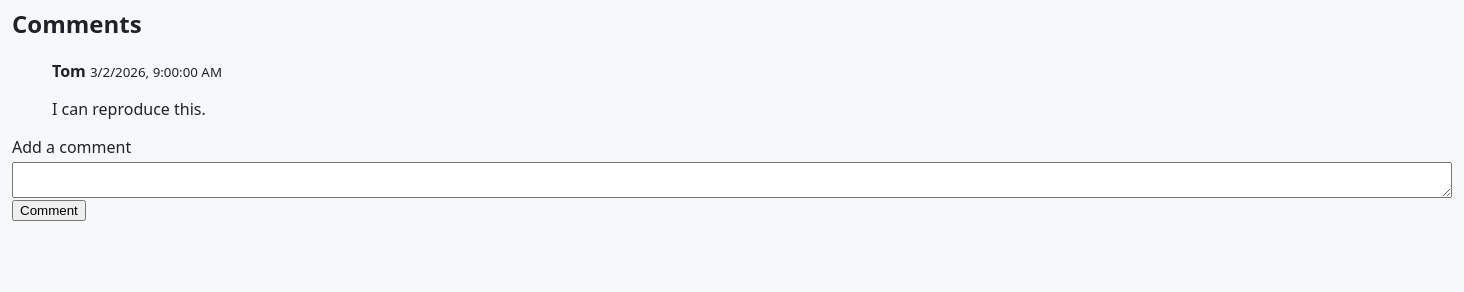
Scenario: CommentsSection › removes the pending comment and restores the text when posting fails
Later steps or results of the test are not shown.
Type "This will fail" into the text box labelled "Add a comment" at (732,180), box 12,162 -> 1452,198
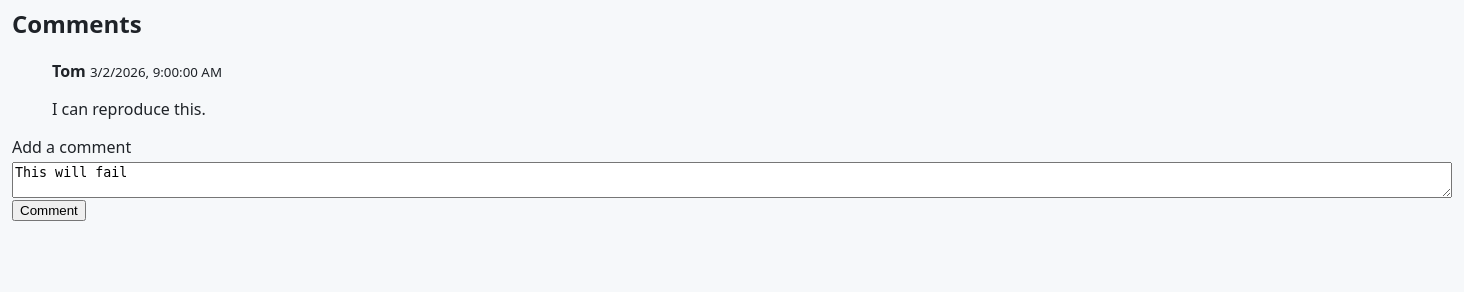
Click the button "Comment" at (49,210), box 12,200 -> 86,221
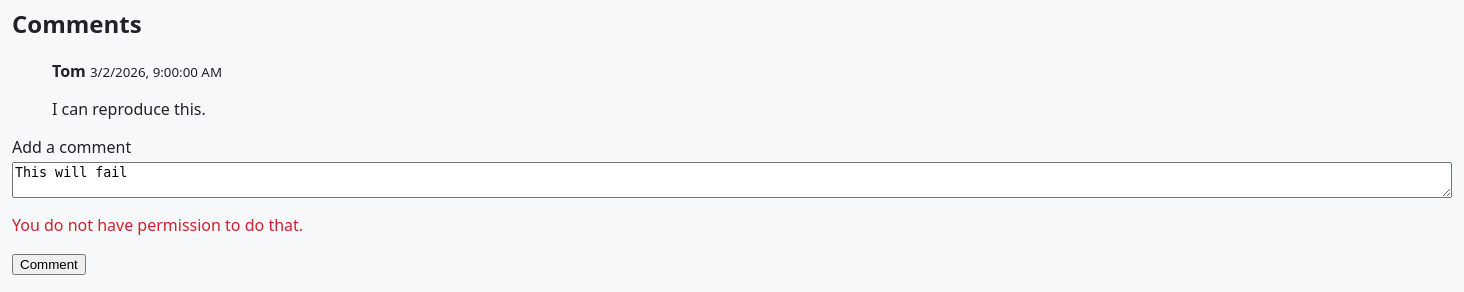
Expected: the number of list items with test id "comment" is 1, 52,60 -> 222,120
Expected: the message reads "You do not have permission to do that.", 12,214 -> 303,236
